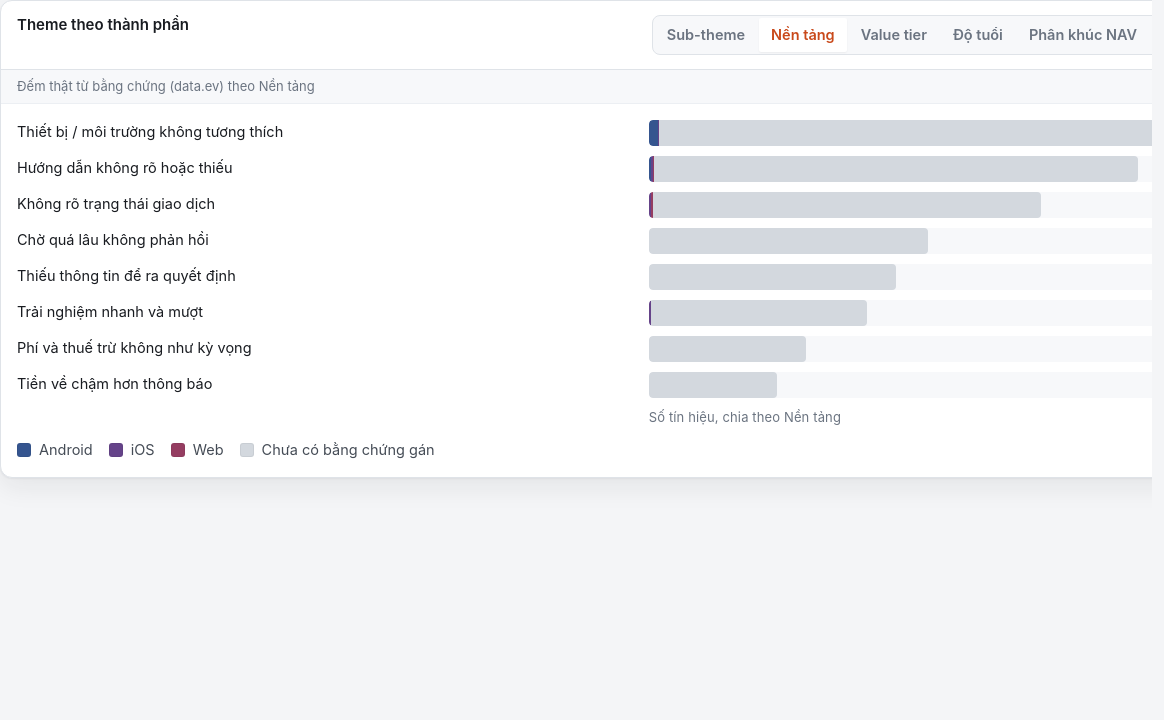
Test case: ThemeStackBlock › bấm 'Sub-theme' → trục THẬT: x-th-device chia đúng 2 đoạn theo n thật subtheme (Σ=412, không đoạn 'Chưa gán')
What coordinates should you click on to do the following:
click the button "Sub-theme"
I would click on:
 (706, 35)
Its box is [655,18,757,52].
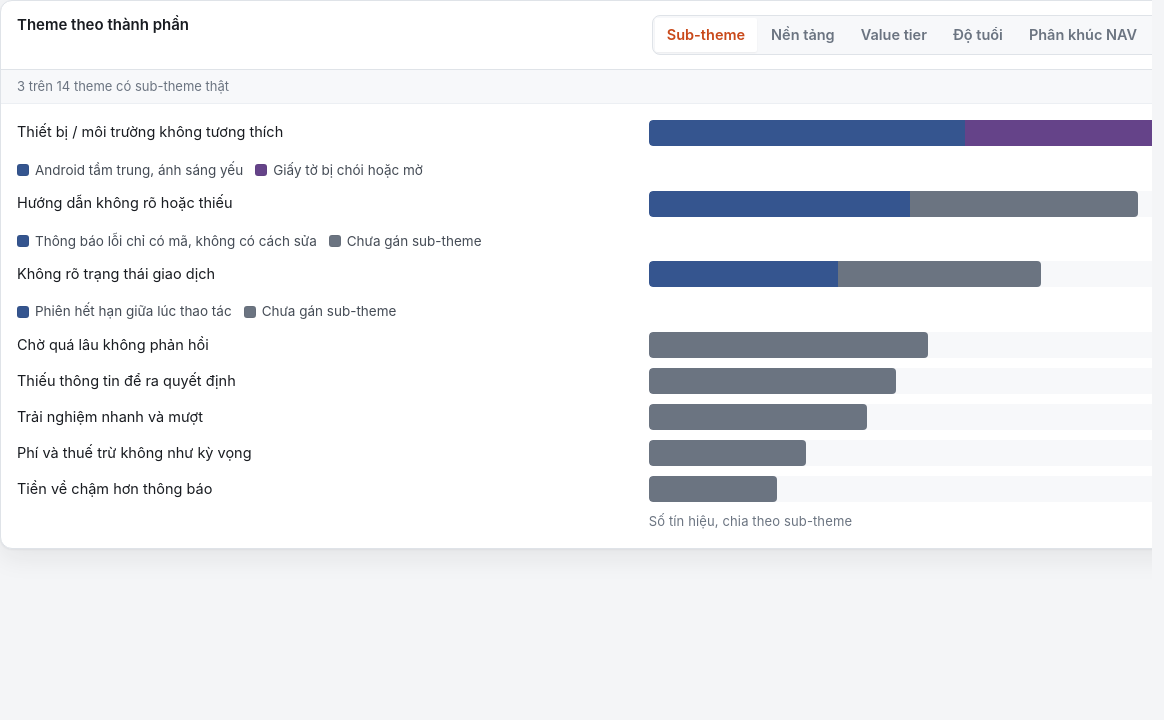
Expected: the text "theo sub-theme" is shown, [649,513,852,529]
